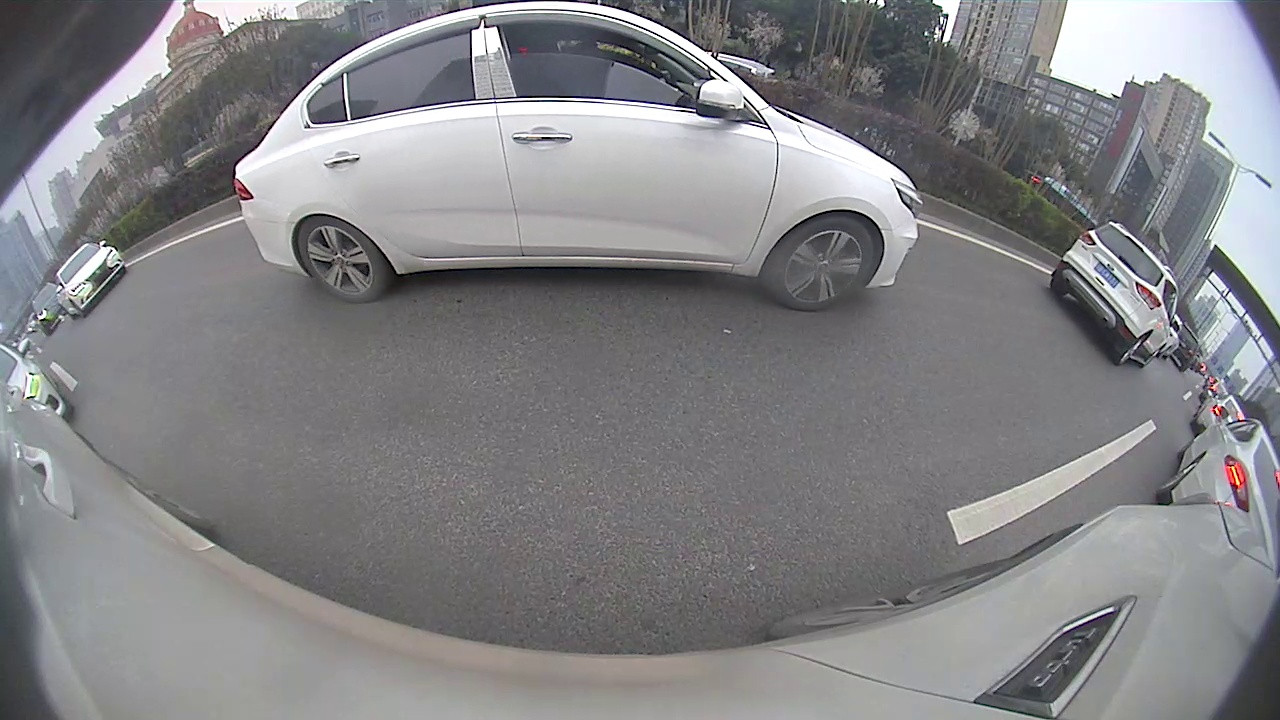car: (232, 4, 926, 312), (1048, 219, 1183, 369), (1155, 405, 1277, 551), (55, 238, 128, 322)
front: (763, 213, 879, 313)
rear: (297, 215, 392, 307), (1117, 334, 1148, 367)
